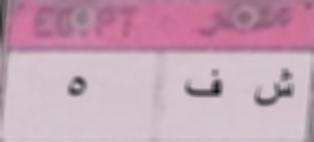5: (61, 69, 93, 100)
faa: (179, 68, 225, 102)
sheen: (251, 60, 300, 114)
